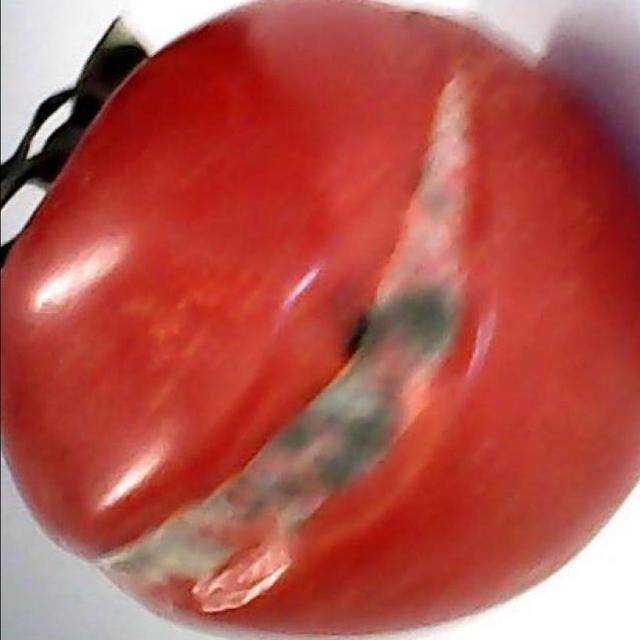Cracking Fruit: (51, 45, 353, 410)
